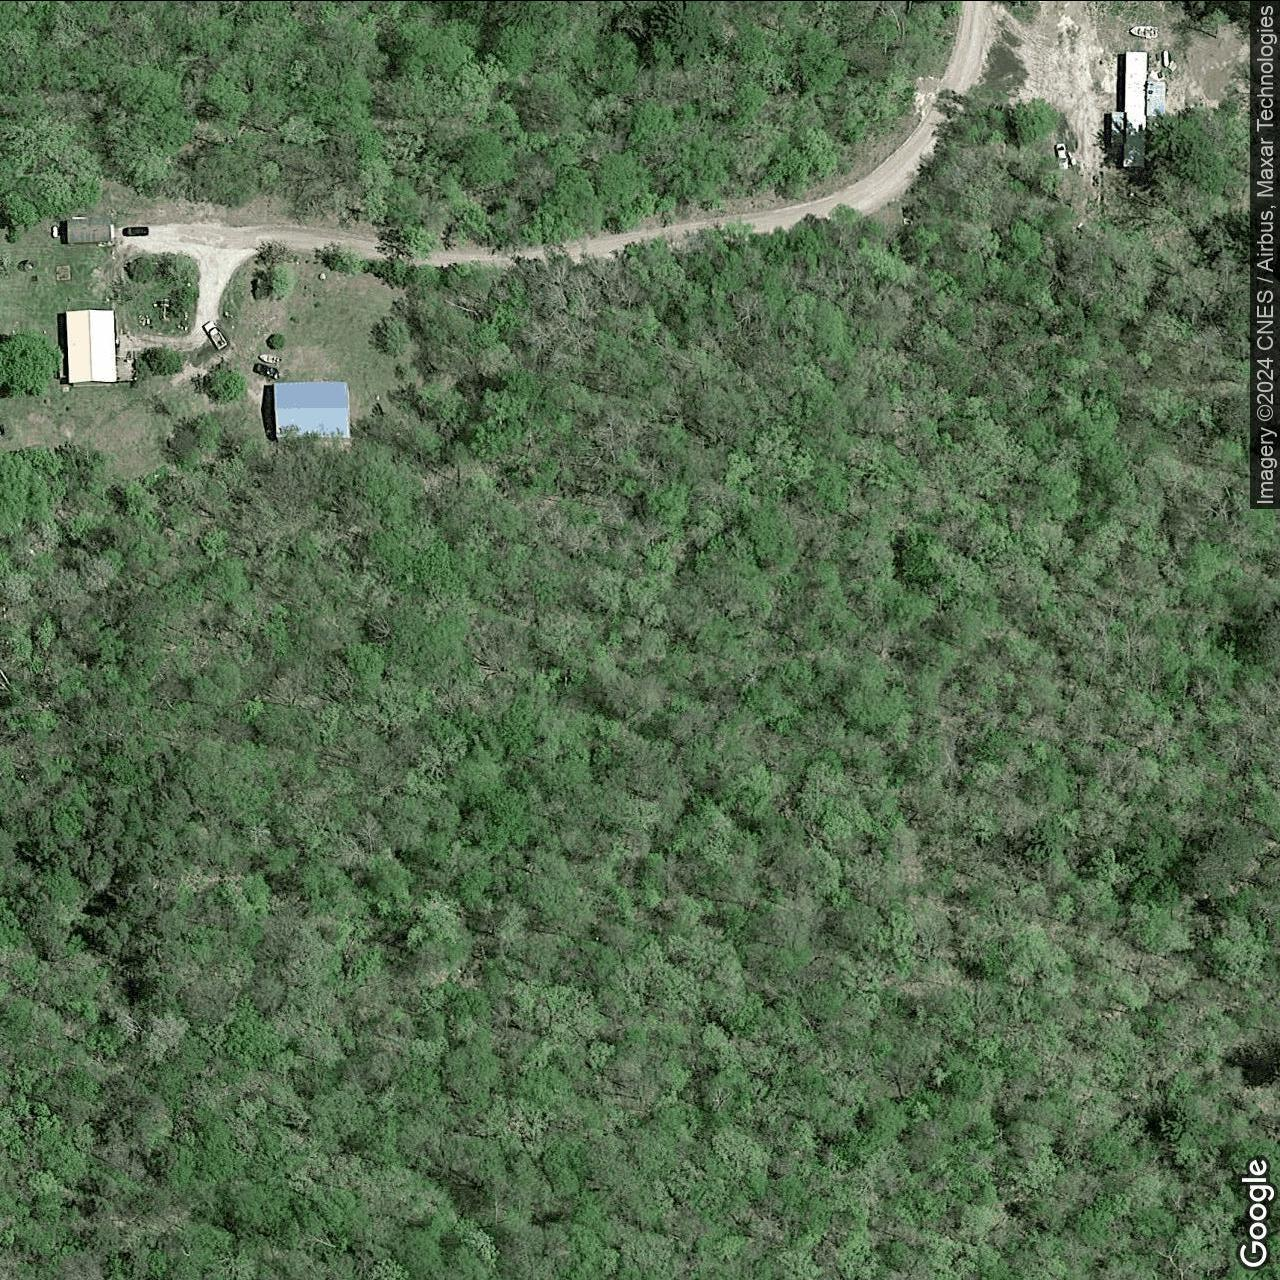Garage: (274, 381, 349, 438), (67, 216, 113, 243)
House: (66, 308, 117, 383)
Propane: (1160, 48, 1171, 68), (50, 224, 59, 239)
Trailer: (1110, 49, 1165, 166)
